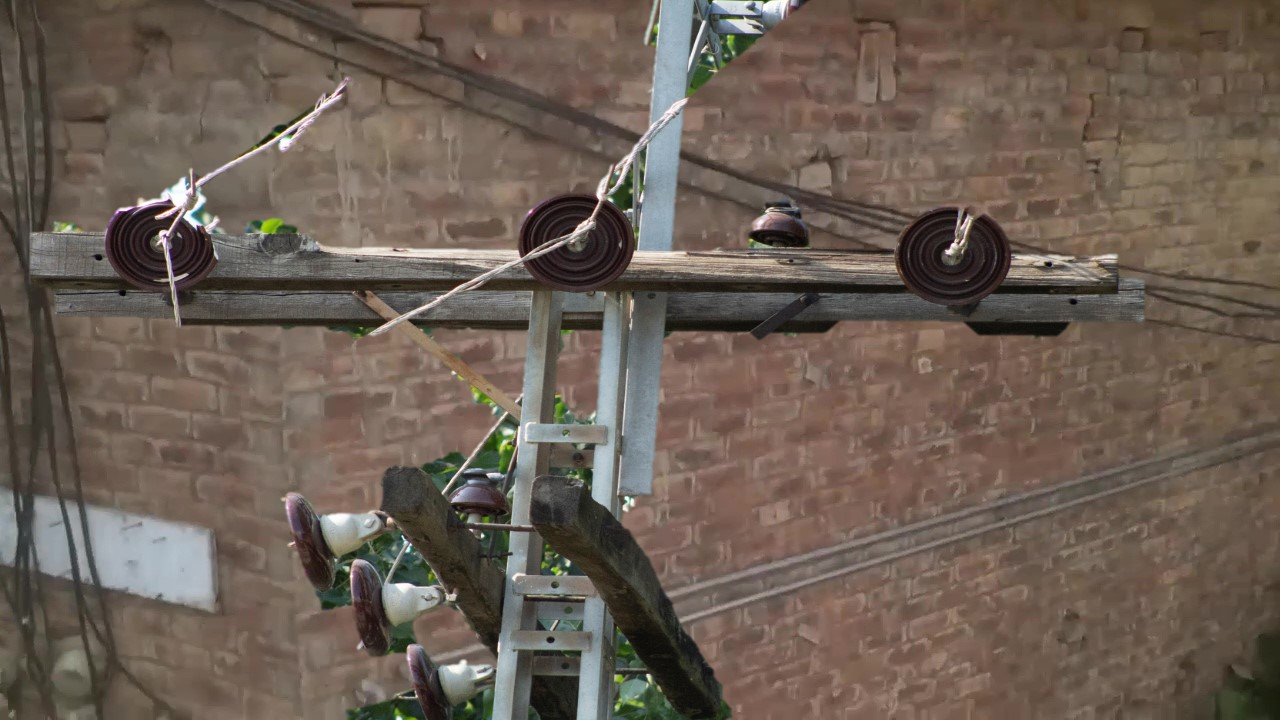defect_disc: (99, 189, 220, 293)
insulator_disc: (514, 186, 645, 301), (892, 201, 1020, 316), (275, 480, 351, 603), (342, 553, 409, 661), (397, 637, 484, 710)
insulator_pin: (444, 461, 515, 527), (746, 193, 816, 255)
